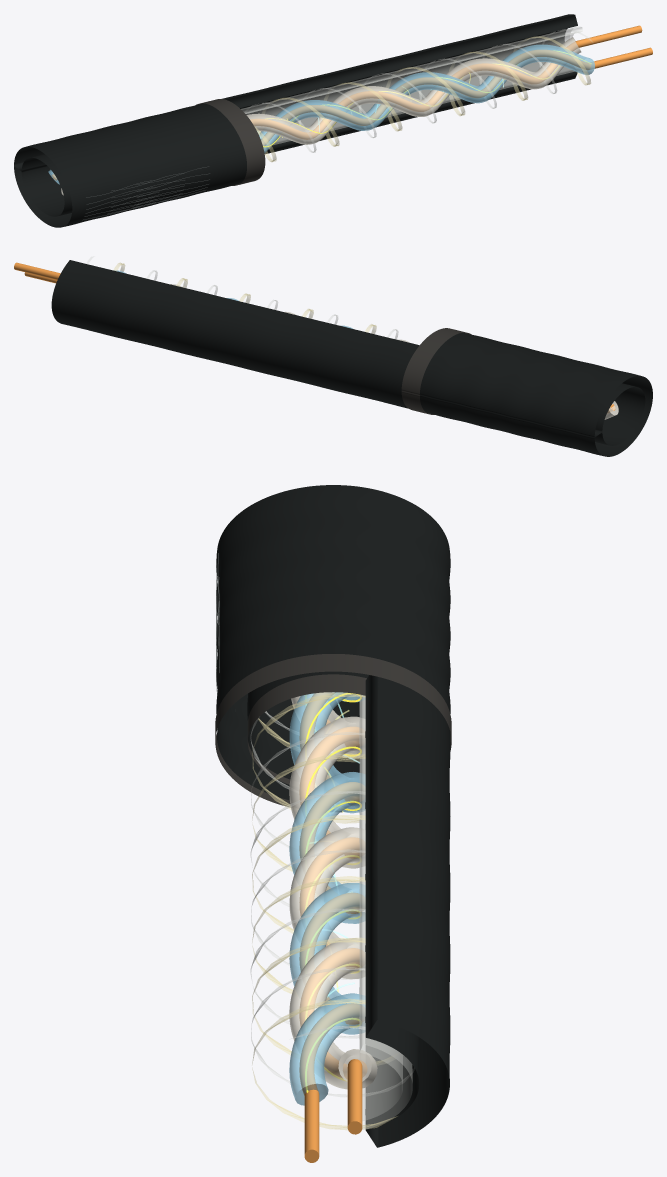
Rendered from highspeed-attenuation-macro.glb.
The picture shows the model from 3 angles, top to bottom: view 1: azimuth 30°, elevation 25°; view 2: azimuth 150°, elevation 25°; view 3: azimuth 270°, elevation 25°; orthographic projection. The views are drawn at different scales.
Parts seen in each view (by area): view 1: Matte_Black_Twinax_Jacket_Left_Sleeve, Matte_Black_Twinax_Jacket_Cutaway_Window, White_Negative_LowLoss_Insulation_Tube, Blue_Positive_LowLoss_Insulation_Tube, Pair_Foil_Shield_Cutaway, Blue_Positive_Copper_Conductor_Core, White_Negative_Copper_Conductor_Core, Pair_Foil_Tape_Spiral_01, Jacket_Cut_Edge_Ring, Pair_Foil_Tape_Spiral_02; view 2: Matte_Black_Twinax_Jacket_Cutaway_Window, Matte_Black_Twinax_Jacket_Left_Sleeve, Jacket_Cut_Edge_Ring, White_Negative_Copper_Conductor_Core, Pair_Foil_Tape_Spiral_01; view 3: Matte_Black_Twinax_Jacket_Left_Sleeve, Matte_Black_Twinax_Jacket_Cutaway_Window, Blue_Positive_LowLoss_Insulation_Tube, White_Negative_LowLoss_Insulation_Tube, Jacket_Cut_Edge_Ring, Blue_Positive_Copper_Conductor_Core, Pair_Foil_Shield_Cutaway, White_Negative_Copper_Conductor_Core, Pair_Foil_Tape_Spiral_01, Pair_Foil_Tape_Spiral_02.
Part boxes in pixels (left/top/right/bottom): Matte_Black_Twinax_Jacket_Left_Sleeve: left=14, top=103, right=246, bottom=227; Matte_Black_Twinax_Jacket_Cutaway_Window: left=202, top=14, right=577, bottom=154; White_Negative_LowLoss_Insulation_Tube: left=61, top=37, right=581, bottom=195; Blue_Positive_LowLoss_Insulation_Tube: left=48, top=44, right=594, bottom=184; Pair_Foil_Shield_Cutaway: left=241, top=27, right=582, bottom=144; Blue_Positive_Copper_Conductor_Core: left=52, top=47, right=652, bottom=180; White_Negative_Copper_Conductor_Core: left=250, top=25, right=642, bottom=139; Pair_Foil_Tape_Spiral_01: left=254, top=36, right=590, bottom=161; Jacket_Cut_Edge_Ring: left=195, top=99, right=265, bottom=185; Pair_Foil_Tape_Spiral_02: left=251, top=29, right=592, bottom=152; Matte_Black_Twinax_Jacket_Cutaway_Window: left=51, top=260, right=429, bottom=413; Matte_Black_Twinax_Jacket_Left_Sleeve: left=420, top=332, right=652, bottom=456; Jacket_Cut_Edge_Ring: left=401, top=328, right=471, bottom=414; White_Negative_Copper_Conductor_Core: left=14, top=262, right=615, bottom=413; Pair_Foil_Tape_Spiral_01: left=113, top=262, right=376, bottom=333; Matte_Black_Twinax_Jacket_Left_Sleeve: left=216, top=485, right=450, bottom=800; Matte_Black_Twinax_Jacket_Cutaway_Window: left=365, top=675, right=450, bottom=1147; Blue_Positive_LowLoss_Insulation_Tube: left=289, top=692, right=365, bottom=1105; White_Negative_LowLoss_Insulation_Tube: left=289, top=696, right=377, bottom=1089; Jacket_Cut_Edge_Ring: left=215, top=654, right=451, bottom=812; Blue_Positive_Copper_Conductor_Core: left=299, top=692, right=364, bottom=1162; Pair_Foil_Shield_Cutaway: left=359, top=695, right=412, bottom=1129; White_Negative_Copper_Conductor_Core: left=299, top=719, right=367, bottom=1134; Pair_Foil_Tape_Spiral_01: left=252, top=692, right=397, bottom=1129; Pair_Foil_Tape_Spiral_02: left=250, top=711, right=414, bottom=1097.
Bounding box in the file's own units: 8.6 × 0.96 × 1.46.
